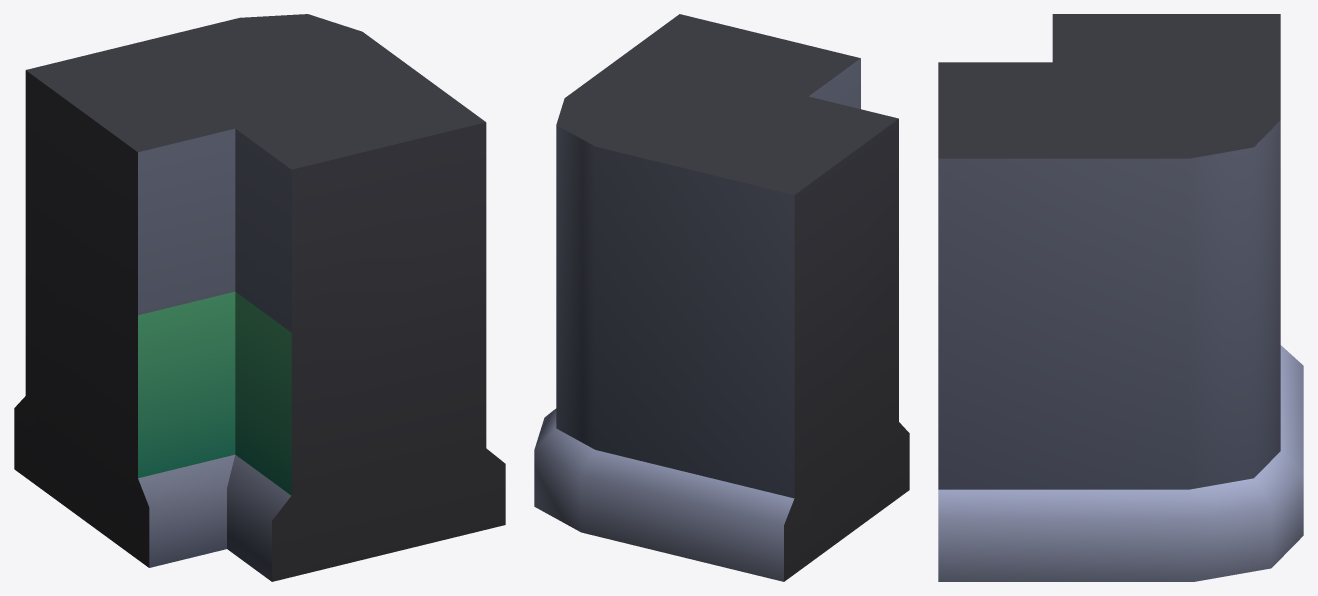
The model's file is wall-corner.glb.
The picture shows the model from 3 angles, left to right: view 1: azimuth 30°, elevation 25°; view 2: azimuth 150°, elevation 25°; view 3: azimuth 270°, elevation 25°; orthographic projection. The views are drawn at different scales.
Parts seen in each view (by area): view 1: wall-corner; view 2: wall-corner; view 3: wall-corner.
Part boxes in pixels (<box>): wall-corner: <box>14,14,505,581</box>; wall-corner: <box>534,14,909,581</box>; wall-corner: <box>938,14,1303,581</box>.
Bounding box in the file's own units: 0.8 × 1 × 0.8.
